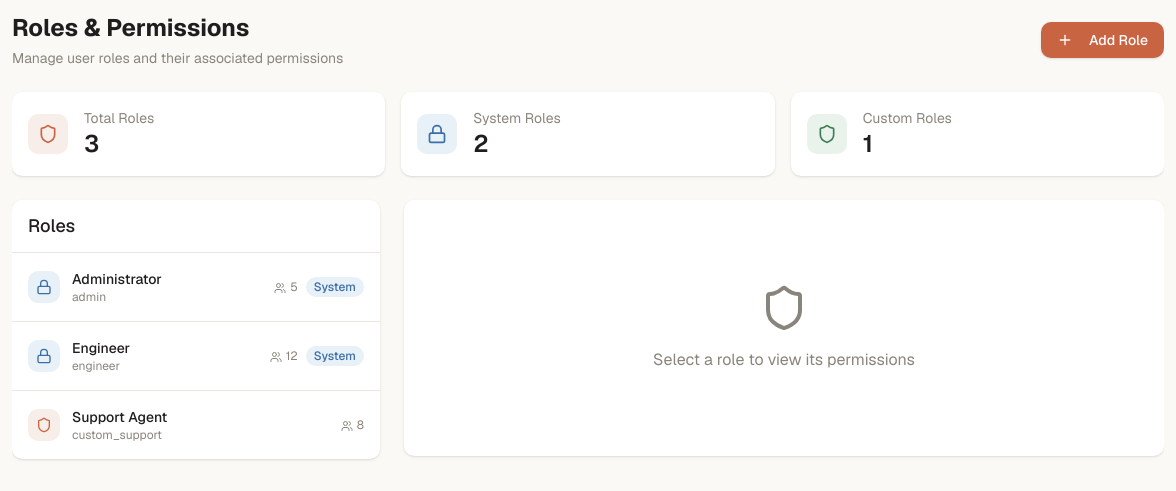
it: RolesPage › Role Selection › displays role details after selection
Click the text "Administrator".
click(117, 279)  # box [72,269,162,289]
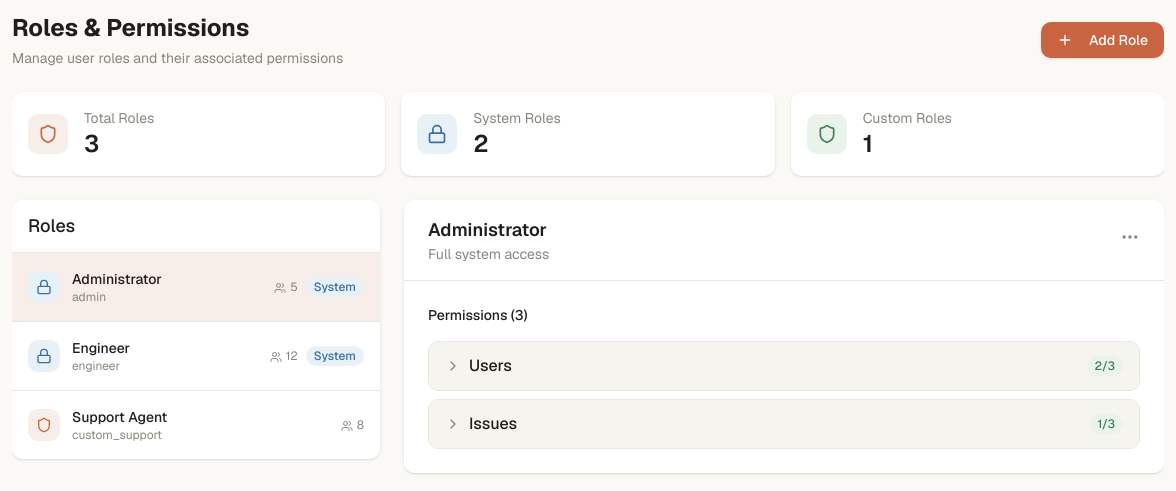
expect the text "Administrator" is shown 2 times: met, box [72,269,162,289]; [428,216,549,244]
expect the text "Full system access" is shown: met, box [428,244,549,264]
